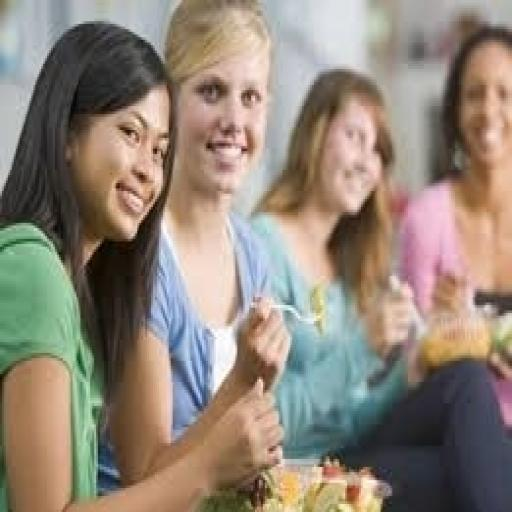eating: (0, 15, 286, 509), (247, 64, 510, 509)
